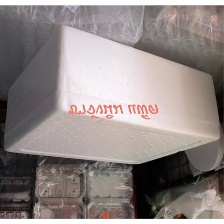foam_box: (0, 20, 224, 169)
